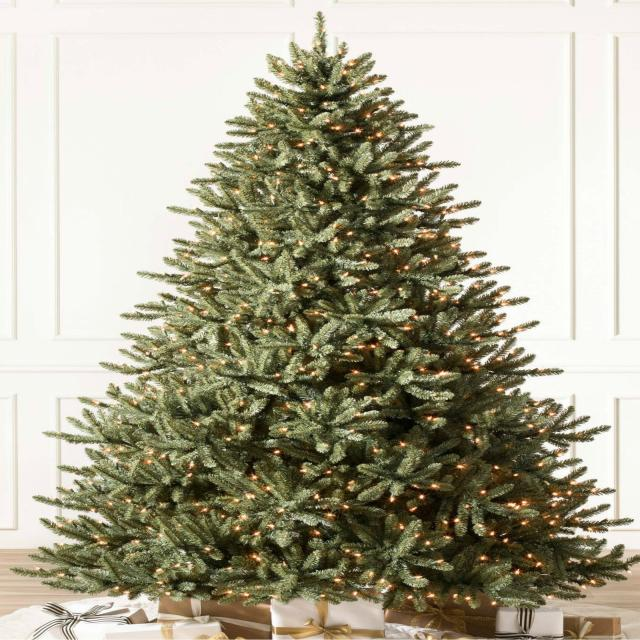Christmas-tree: (6, 4, 640, 592)
